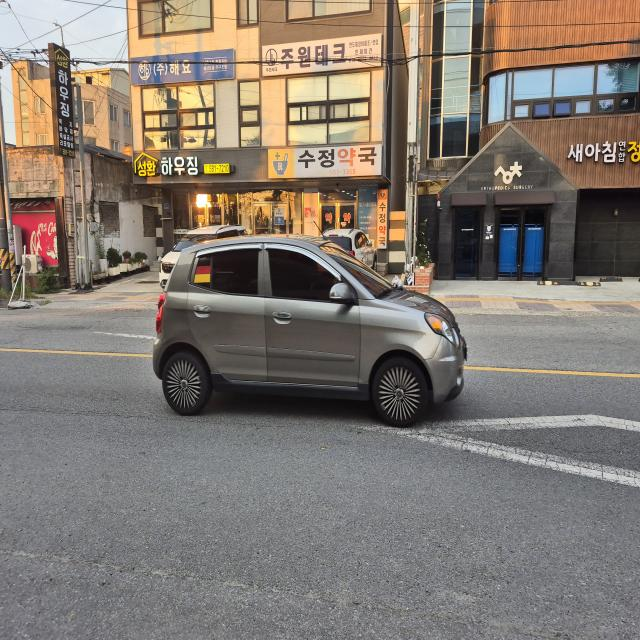car: (155, 231, 432, 425)
